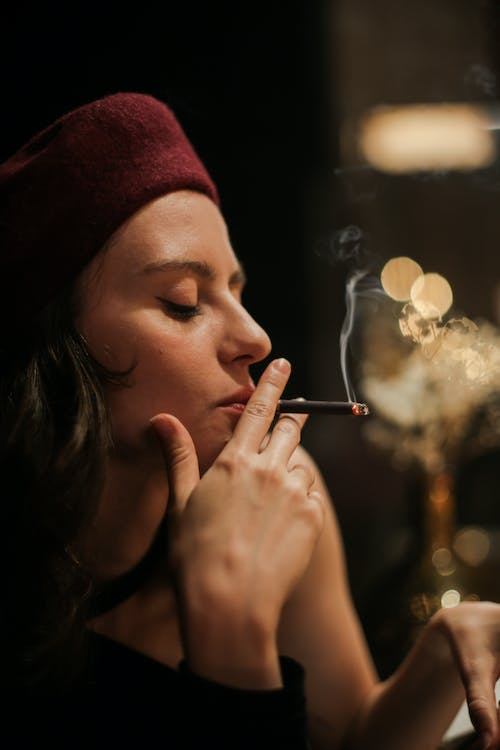cigarette: (273, 394, 374, 420)
